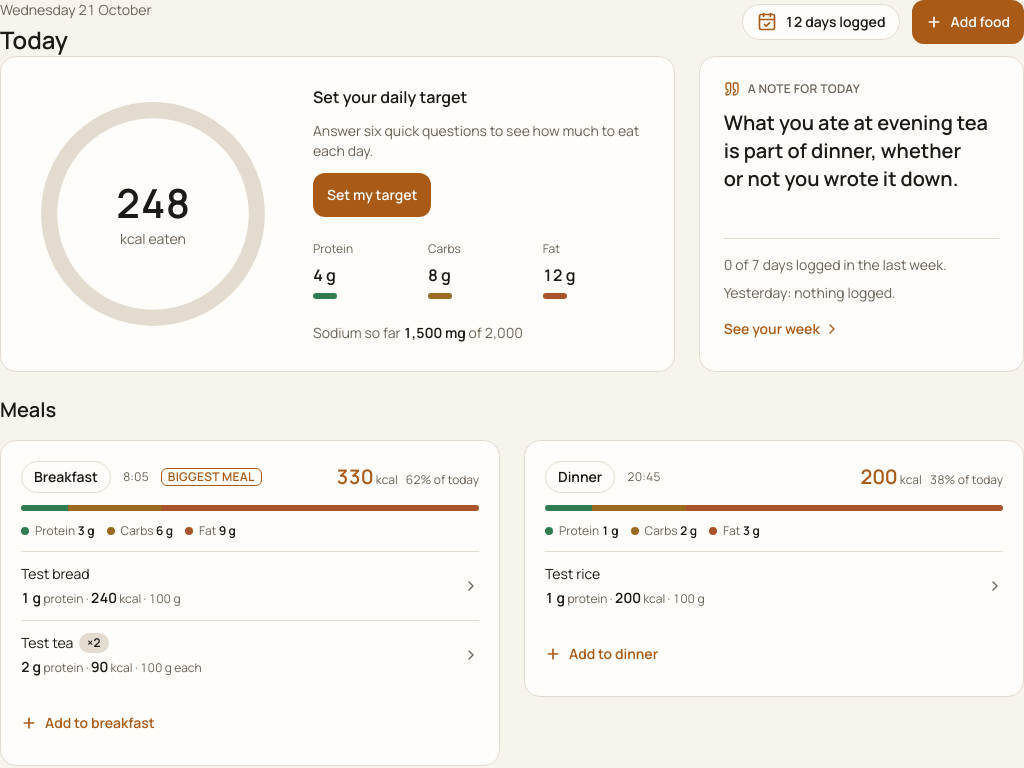
Test: on wide screens › opens the popup on a meal from its card, lists what is in it, and closes with Done
What coordinates should you click on to do the following:
click the button "Add to breakfast"
I would click on:
 (88, 723)
Its box is [21,701,155,745].
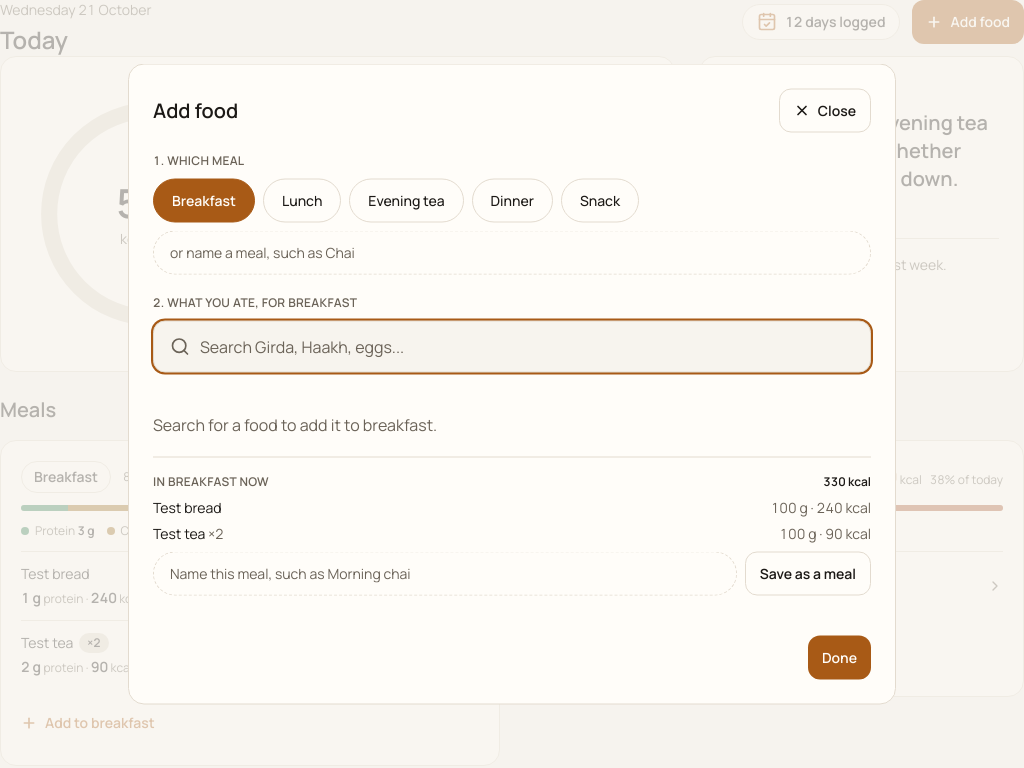
Result: the element "In breakfast now" shows "330 kcal" at [153,456,871,596]
What coordinates should you click on to do the following:
click the button "Done"
I would click on:
 (839, 658)
Its box is [808,636,871,680].
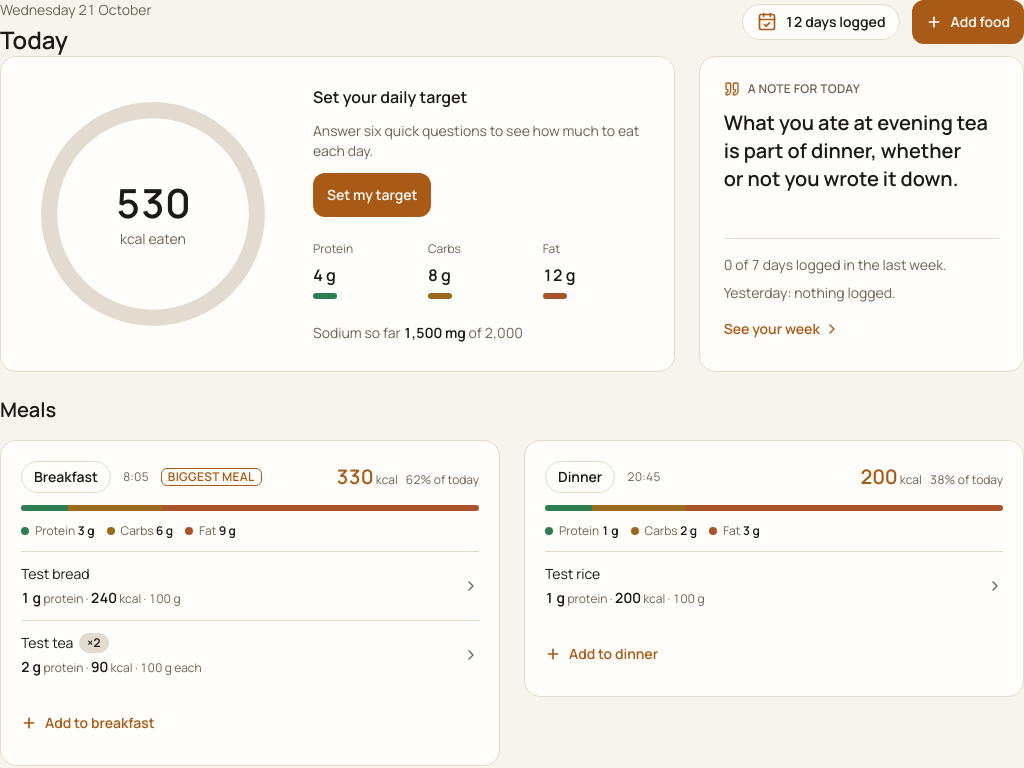
Result: the dialog is gone
